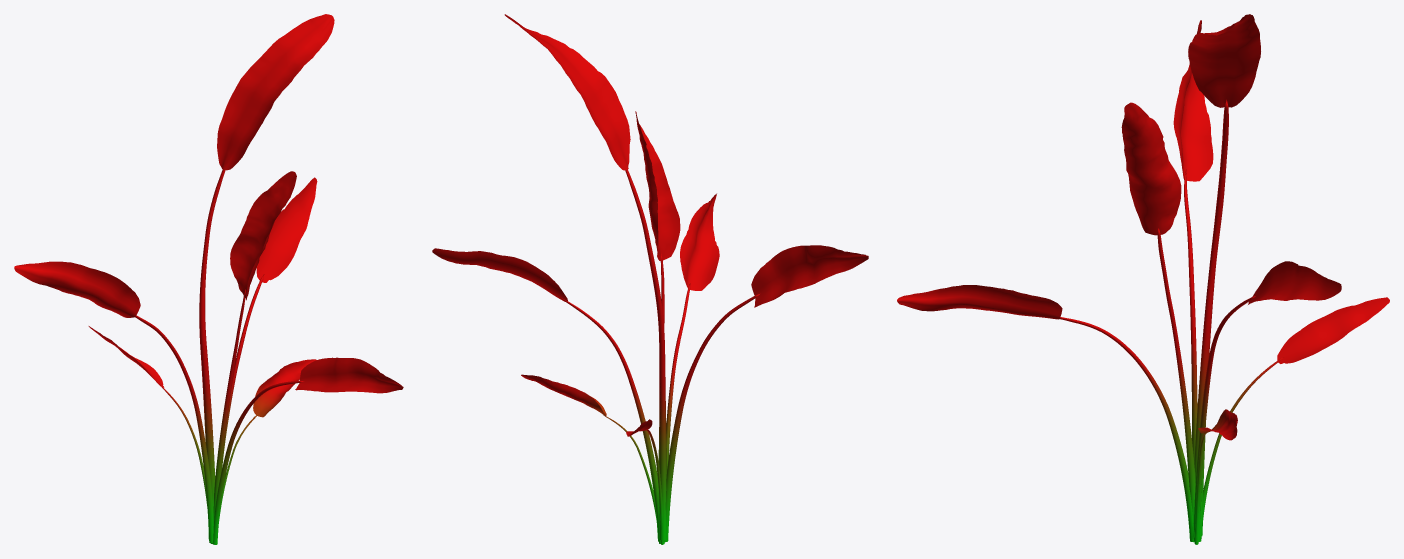
File: Var8_LOD0.fbx
3 renders of one model, left to right at view 1: azimuth 30°, elevation 25°; view 2: azimuth 150°, elevation 25°; view 3: azimuth 270°, elevation 25°, orthographic. The views are drawn at different scales.
Visible parts, largest first — view 1: _ooxr_Var8_LOD0; view 2: _ooxr_Var8_LOD0; view 3: _ooxr_Var8_LOD0.
Boxes of the visible parts, <box> form: _ooxr_Var8_LOD0: <box>14,14,403,544</box>; _ooxr_Var8_LOD0: <box>432,14,868,544</box>; _ooxr_Var8_LOD0: <box>897,14,1389,544</box>.
Size of the model in its own units: 141 by 182 by 135.
